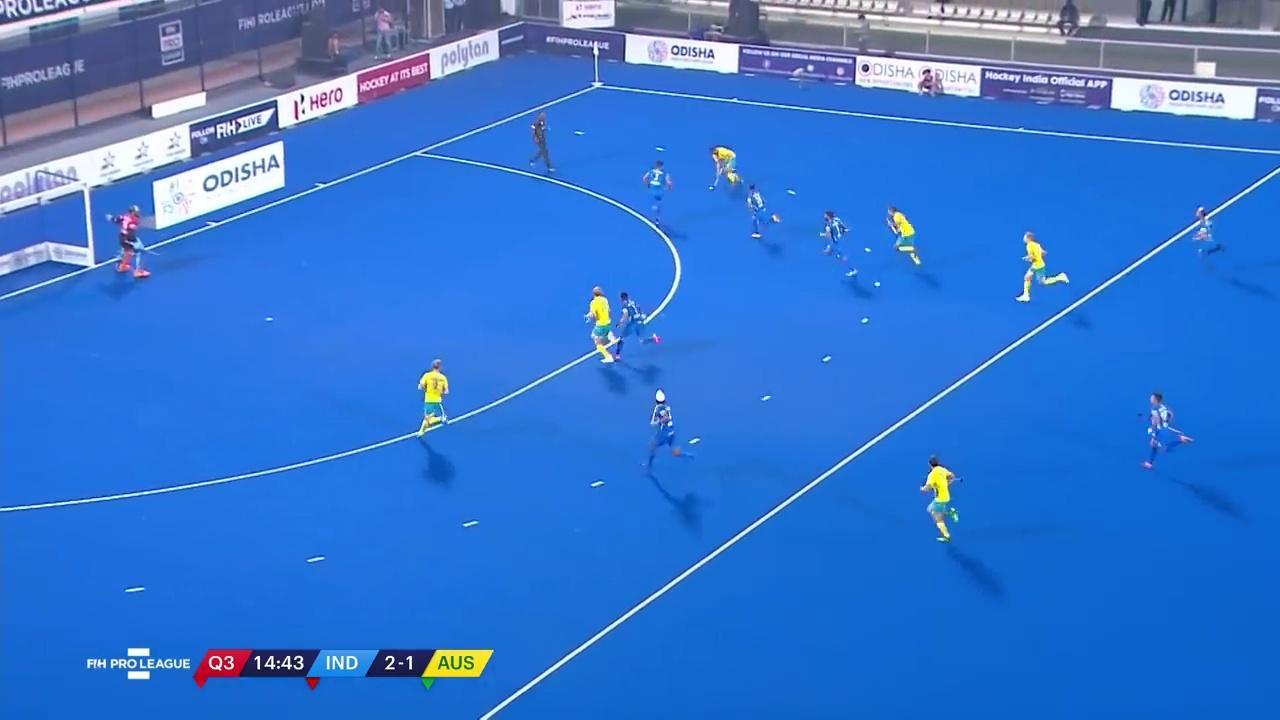ball: (707, 178, 717, 193)
